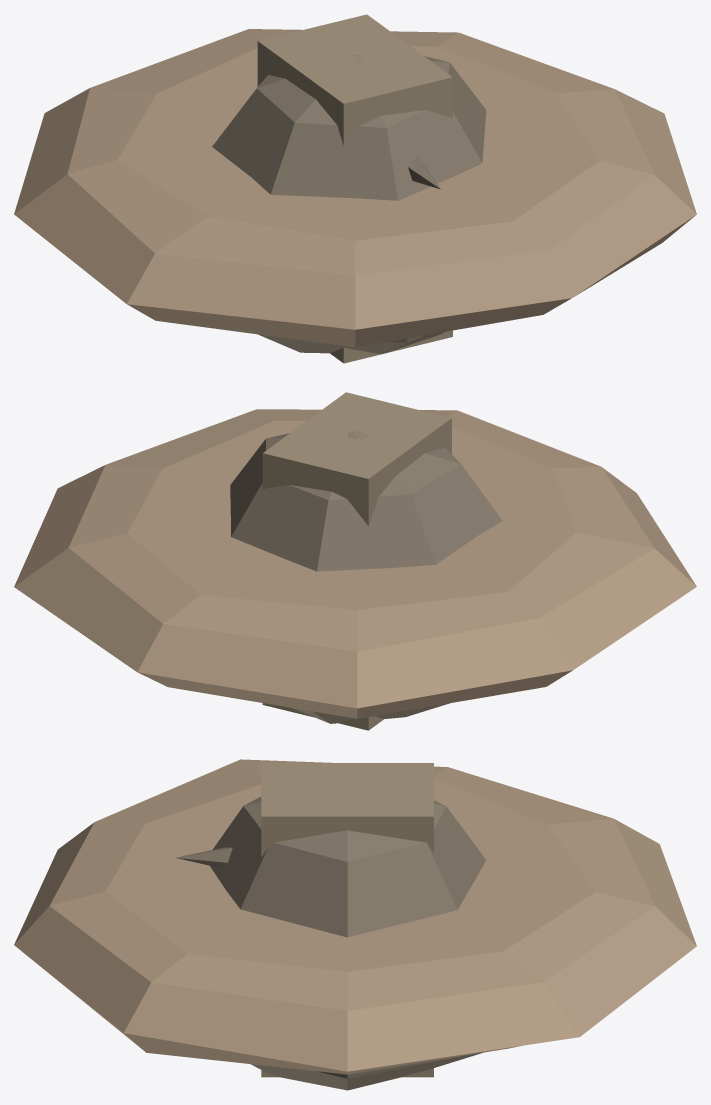
File: tower-forge-parts.glb
3 renders of one model, top to bottom at view 1: azimuth 30°, elevation 25°; view 2: azimuth 150°, elevation 25°; view 3: azimuth 270°, elevation 25°, orthographic. The views are drawn at different scales.
Parts seen in each view (by area): view 1: drumD1, mouth, bellowsR; view 2: drumD1, mouth, bellowsR; view 3: drumD1, mouth, bellowsR, bellowsL.
Part boxes in pixels (x1,y1,x2,y2): drumD1: (14,29,696,347); mouth: (212,55,486,354); bellowsR: (257,14,452,363); drumD1: (14,409,696,718); mouth: (230,431,502,723); bellowsR: (262,392,451,730); drumD1: (14,759,696,1074); mouth: (210,789,485,1090); bellowsR: (261,763,433,1077); bellowsL: (176,847,232,867).
Bounding box in the file's own units: 1.21 × 0.5 × 1.19.
